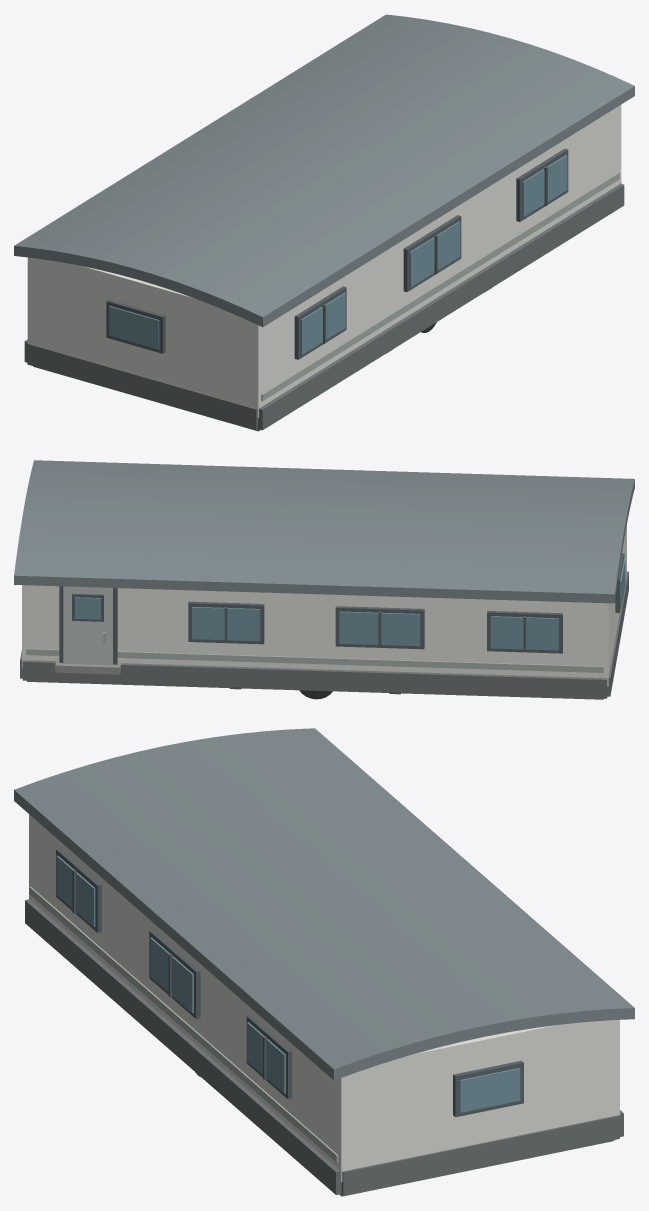
The picture shows the model from 3 angles, top to bottom: view 1: azimuth 30°, elevation 25°; view 2: azimuth 150°, elevation 25°; view 3: azimuth 270°, elevation 25°; orthographic projection. The views are drawn at different scales.
Parts seen in each view (by area): view 1: shallow_crowned_roof, main_caravan_body, lower_side_skirt_negative, lower_end_skirt_negative, side_stripe_negative, negative_side_window_2_glass, negative_side_window_3_glass, negative_side_window_1_glass, rear_end_window_glass, negative_side_window_2_frame, rear_end_window_frame, negative_side_window_1_frame (+1 smaller); view 2: shallow_crowned_roof, main_caravan_body, lower_side_skirt_positive, side_stripe_positive, entrance_door_panel, positive_side_window_2_glass, positive_side_window_1_glass, positive_side_window_3_glass, positive_side_window_2_frame, positive_side_window_3_frame, positive_side_window_1_frame, underframe_main (+4 smaller); view 3: shallow_crowned_roof, main_caravan_body, lower_side_skirt_negative, lower_end_skirt_positive, side_stripe_negative, front_end_window_glass, negative_side_window_2_glass, negative_side_window_1_glass, negative_side_window_3_glass, front_end_window_frame, negative_side_window_2_frame, negative_side_window_3_frame (+1 smaller).
Boxes of the visible parts, box(x1,y1,x2,y2) form: shallow_crowned_roof: box(14, 14, 634, 327); main_caravan_body: box(27, 105, 621, 417); lower_side_skirt_negative: box(258, 183, 624, 430); lower_end_skirt_negative: box(27, 343, 257, 429); side_stripe_negative: box(261, 172, 619, 401); negative_side_window_2_glass: box(409, 221, 460, 287); negative_side_window_3_glass: box(522, 155, 567, 216); negative_side_window_1_glass: box(300, 292, 345, 354); rear_end_window_glass: box(109, 306, 159, 349); negative_side_window_2_frame: box(403, 215, 461, 291); rear_end_window_frame: box(106, 299, 165, 353); negative_side_window_1_frame: box(294, 286, 346, 359); shallow_crowned_roof: box(14, 460, 634, 603); main_caravan_body: box(22, 525, 626, 686); lower_side_skirt_positive: box(22, 660, 607, 698); side_stripe_positive: box(26, 648, 603, 672); entrance_door_panel: box(63, 586, 112, 665); positive_side_window_2_glass: box(339, 611, 420, 646); positive_side_window_1_glass: box(490, 616, 558, 650); positive_side_window_3_glass: box(192, 607, 260, 641); positive_side_window_2_frame: box(335, 606, 424, 649); positive_side_window_3_frame: box(188, 601, 264, 644); positive_side_window_1_frame: box(487, 611, 562, 653); underframe_main: box(27, 681, 603, 699); shallow_crowned_roof: box(14, 728, 634, 1080); main_caravan_body: box(29, 814, 619, 1181); lower_side_skirt_negative: box(25, 899, 341, 1194); lower_end_skirt_positive: box(341, 1115, 619, 1195); side_stripe_negative: box(29, 886, 338, 1162); front_end_window_glass: box(459, 1068, 520, 1112); negative_side_window_2_glass: box(150, 937, 193, 1013); negative_side_window_1_glass: box(56, 855, 95, 926); negative_side_window_3_glass: box(247, 1022, 285, 1093); front_end_window_frame: box(453, 1060, 523, 1117); negative_side_window_2_frame: box(149, 930, 200, 1018); negative_side_window_3_frame: box(246, 1015, 292, 1099).
Bounding box in the file's own units: 11.16 × 2.5 × 8.58.
